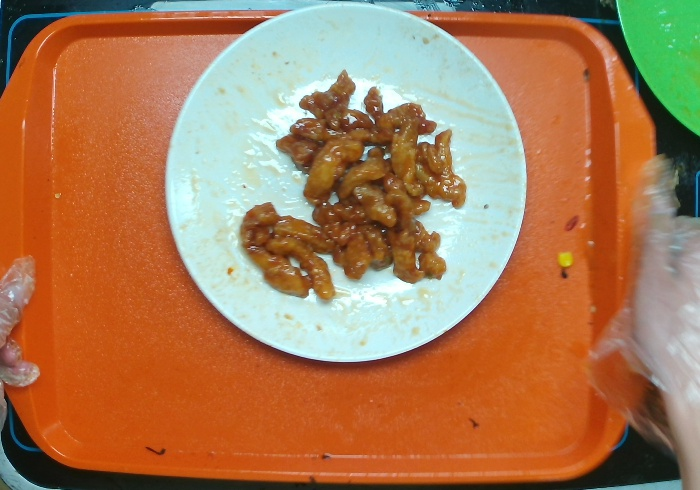HZYJPL-Bai_Se_Yuan_Pan: (152, 1, 538, 376)
